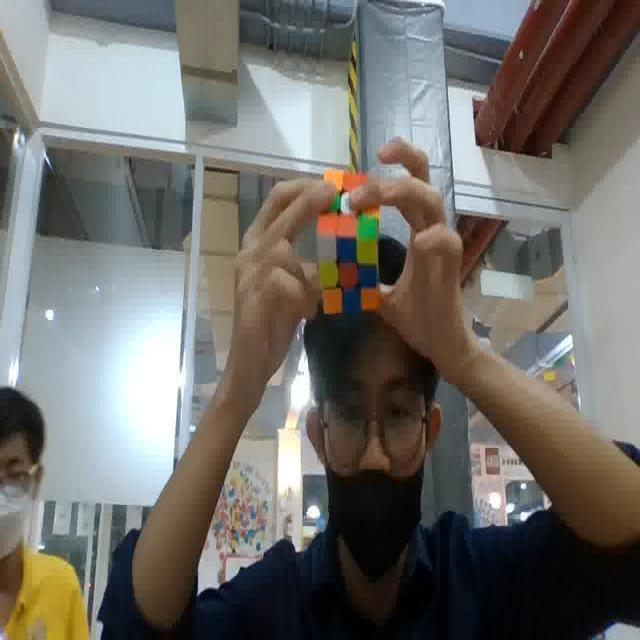Rub: (312, 165, 386, 315)
